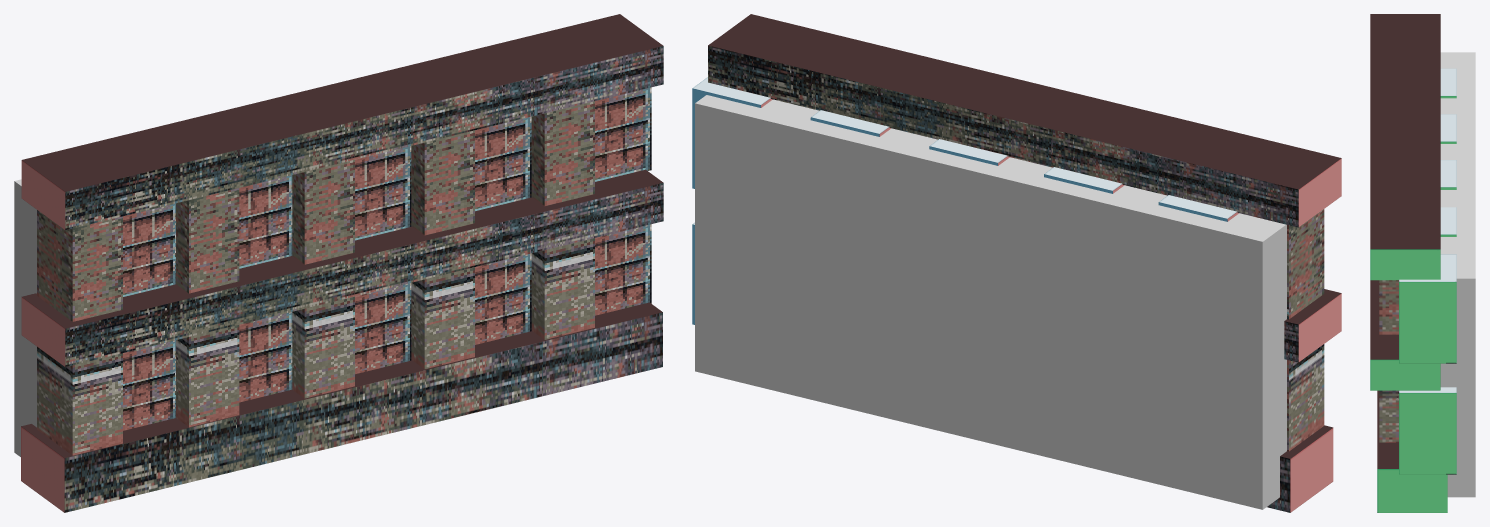
The model's file is ParedChina.fbx.
3 views of the same model, side by side, from view 1: azimuth 30°, elevation 25°; view 2: azimuth 150°, elevation 25°; view 3: azimuth 270°, elevation 25° (orthographic). The views are drawn at different scales.
Parts seen in each view (by area): view 1: Building base, Windows, mesh; view 2: mesh, Building base, Windows; view 3: Building base, Windows, mesh.
Boxes of the visible parts, bbox=[...] form: Building base: bbox=[21, 14, 663, 512]; Windows: bbox=[123, 87, 651, 430]; mesh: bbox=[14, 179, 36, 456]; mesh: bbox=[695, 95, 1286, 509]; Building base: bbox=[708, 14, 1341, 512]; Windows: bbox=[692, 77, 1238, 324]; Building base: bbox=[1370, 14, 1447, 512]; Windows: bbox=[1399, 68, 1456, 474]; mesh: bbox=[1440, 52, 1475, 497].
Size of the model in its own units: 975 by 502 by 183.
Materials: 3 (3 with a texture image).
